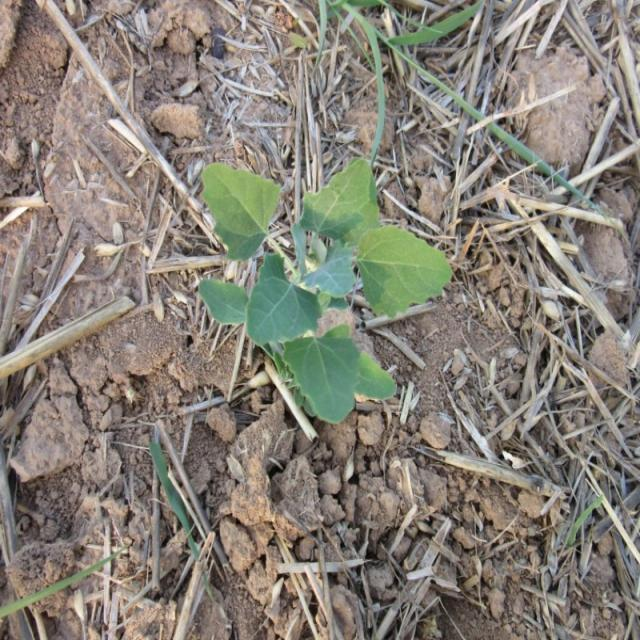ca: (198, 159, 453, 423)
